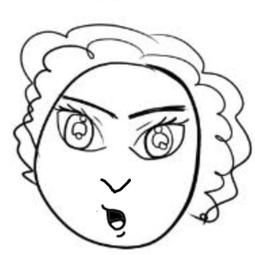eye: (124, 114, 189, 166), (52, 104, 113, 159)
eyebrow: (62, 95, 120, 119), (126, 103, 189, 121)
nose: (97, 174, 133, 199)
open_mouth: (105, 210, 131, 230)
